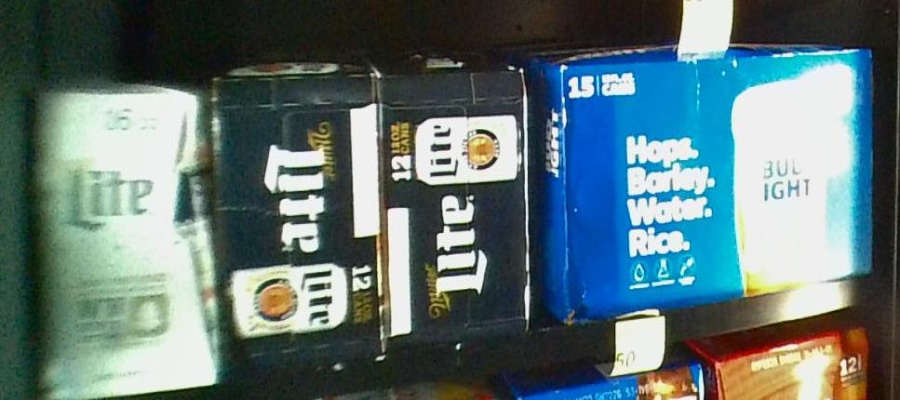bottle: (541, 53, 877, 277), (29, 90, 223, 383), (215, 70, 383, 350), (379, 57, 530, 349)
